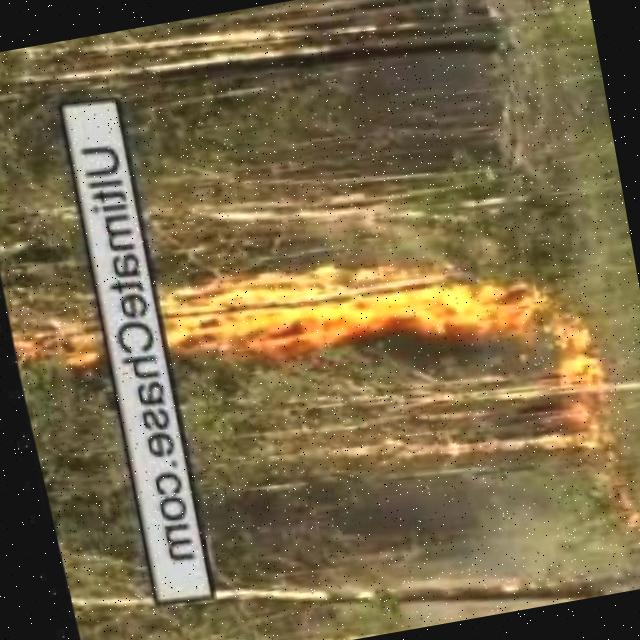fire: (157, 240, 450, 376), (443, 245, 604, 412), (4, 306, 97, 374)
